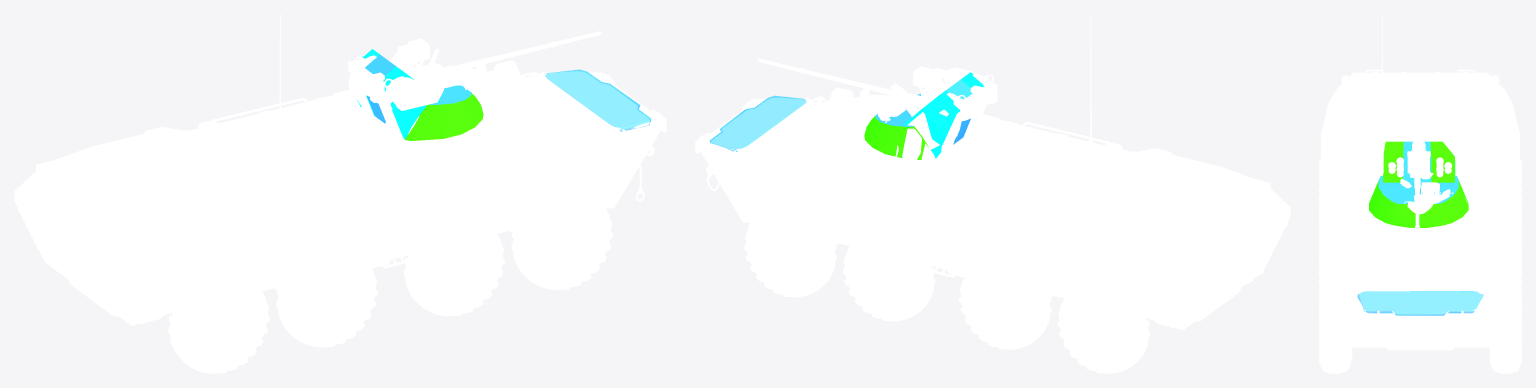
The model's file is BTR82A.gltf.
3 views of the same model, side by side, from view 1: azimuth 30°, elevation 25°; view 2: azimuth 150°, elevation 25°; view 3: azimuth 270°, elevation 25° (orthographic). The views are drawn at different scales.
Visible parts, largest first — view 1: 34, 34_1, 34_3, BTR80_Watershield_Col2, 34_4, 30mm_col, 30mm_col_1, 30mm_col_2; view 2: 34, 34_1, 34_4, 34_3, BTR80_Watershield_Col2, 30mm_col_2, 30mm_col, 30mm_col_1; view 3: 34, 34_1, 30mm_col, BTR80_Watershield_Col2, 34_3, 34_4, 30mm_col_1, 34_2.
Boxes of the visible parts, <box> form: 34: <box>14,14,666,325</box>; 34_1: <box>168,186,612,373</box>; 34_3: <box>348,31,601,110</box>; BTR80_Watershield_Col2: <box>544,69,651,131</box>; 34_4: <box>348,51,466,140</box>; 30mm_col: <box>405,93,483,140</box>; 30mm_col_1: <box>365,54,471,123</box>; 30mm_col_2: <box>357,49,440,139</box>; 34: <box>695,14,1290,329</box>; 34_1: <box>744,202,1150,373</box>; 34_4: <box>878,73,997,160</box>; 34_3: <box>758,58,989,121</box>; BTR80_Watershield_Col2: <box>709,95,806,151</box>; 30mm_col_2: <box>903,72,983,158</box>; 30mm_col: <box>864,116,931,159</box>; 30mm_col_1: <box>875,79,972,144</box>; 34: <box>1321,14,1519,358</box>; 34_1: <box>1319,158,1521,373</box>; 30mm_col: <box>1369,141,1468,227</box>; BTR80_Watershield_Col2: <box>1357,291,1483,315</box>; 34_3: <box>1367,129,1437,247</box>; 34_4: <box>1382,132,1468,214</box>; 30mm_col_1: <box>1378,141,1458,203</box>; 34_2: <box>1337,265,1503,287</box>.
Size of what is drawn, in the model's own units: 7.78 by 4.06 by 2.92.
